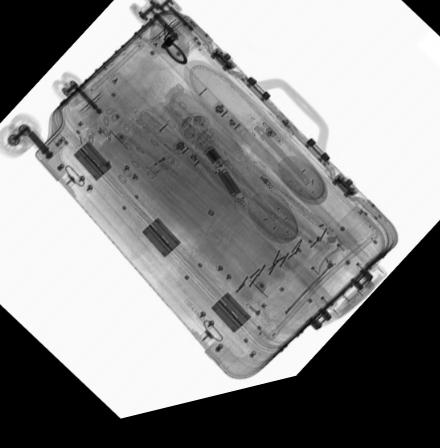Lighter: (141, 148, 187, 189)
